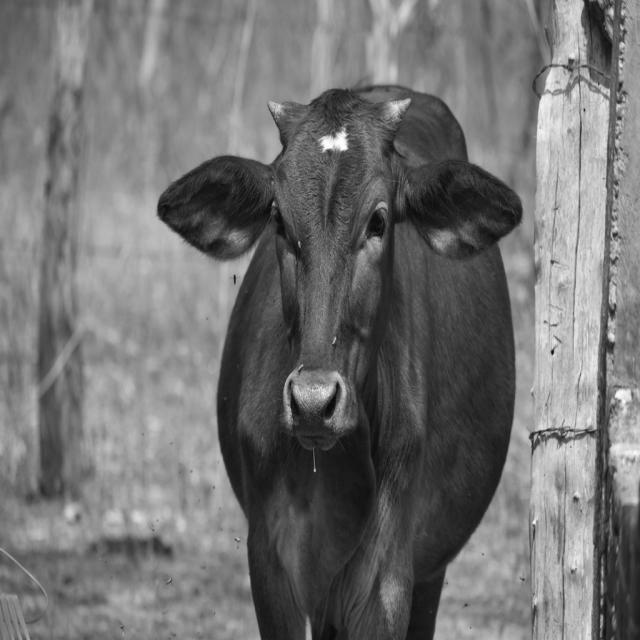cow: (158, 86, 521, 640)
